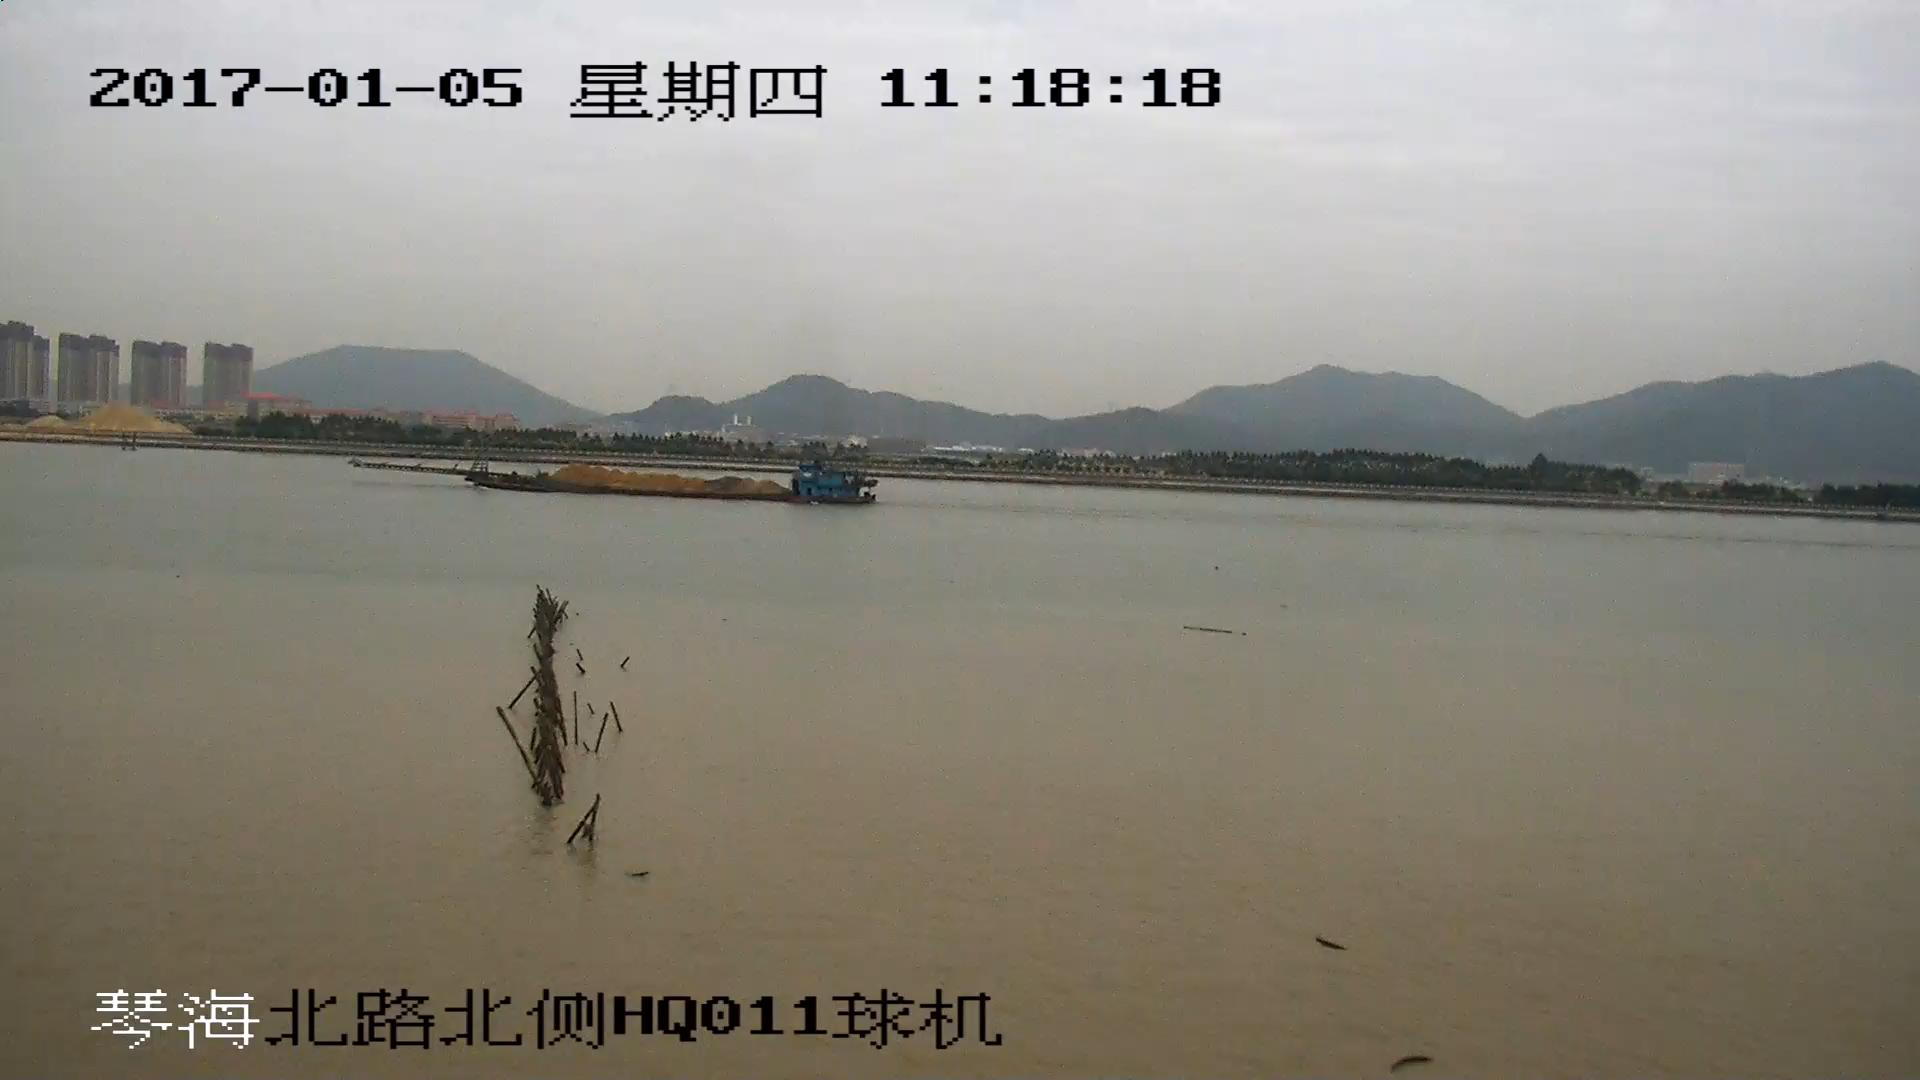ore carrier: (360, 438, 870, 508)
